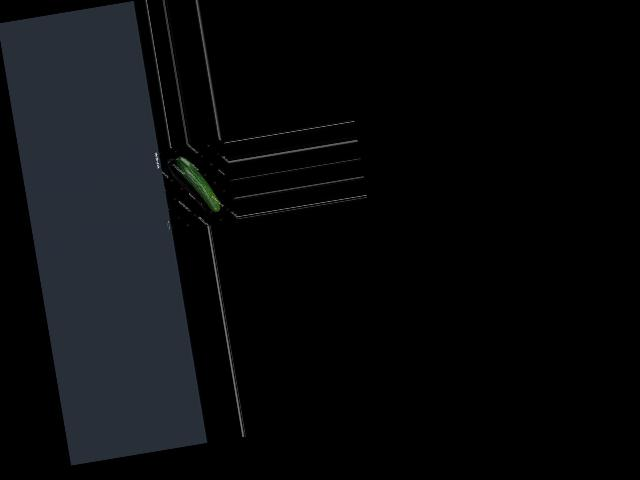cucumber: (173, 151, 221, 218)
